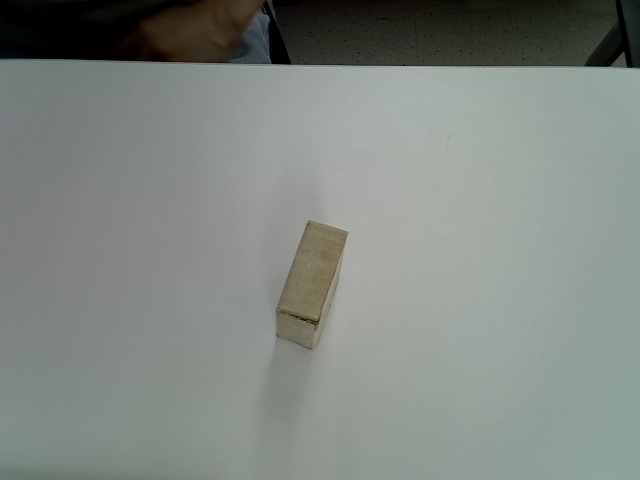normal: (276, 220, 350, 350)
